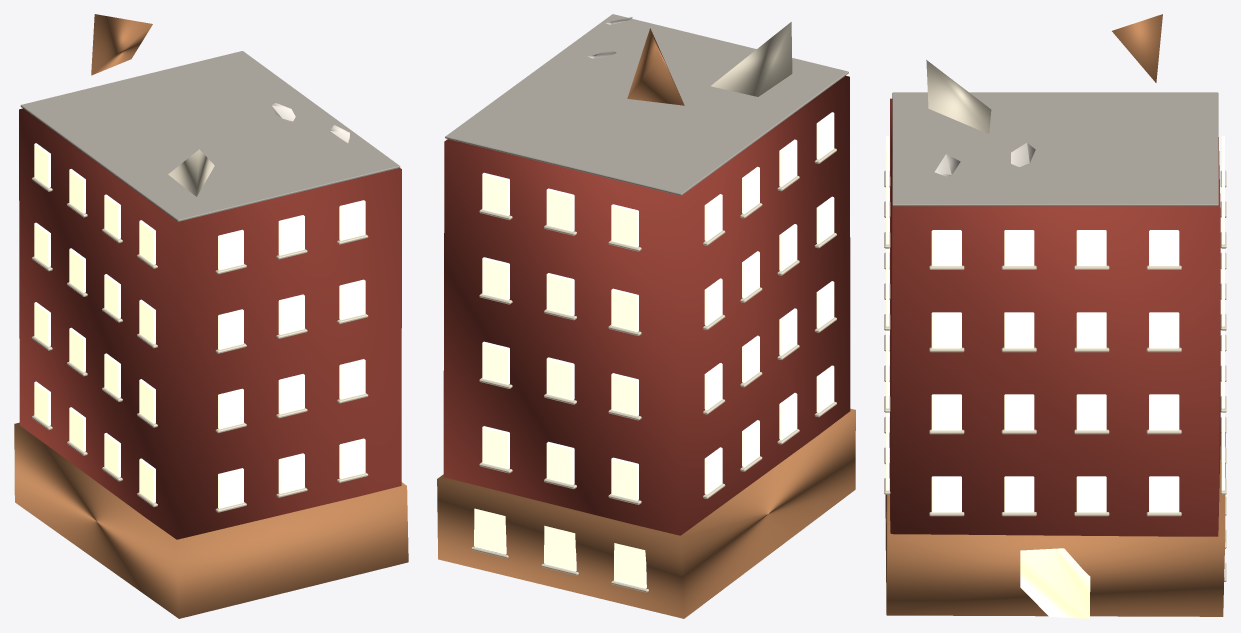
Rendered from apartment.glb.
3 renders of one model, left to right at view 1: azimuth 30°, elevation 25°; view 2: azimuth 150°, elevation 25°; view 3: azimuth 270°, elevation 25°, orthographic. The views are drawn at different scales.
Visible parts, largest first — view 1: apartment; view 2: apartment; view 3: apartment.
Part boxes in pixels (x1,y1,x2,y2): apartment: (14, 14, 408, 618); apartment: (437, 14, 855, 618); apartment: (884, 14, 1226, 618).
Bounding box in the file's own units: 9.41 × 18.75 × 11.34.
1 material, 1 textured.
